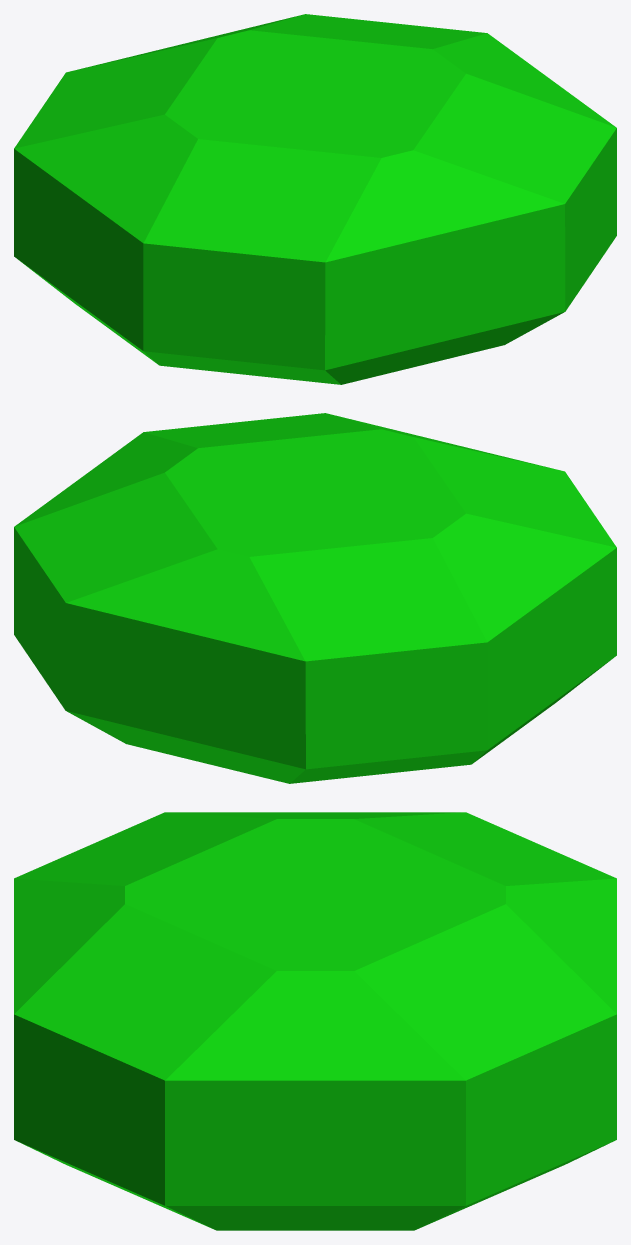
The model's file is Jem_13.fbx.
The picture shows the model from 3 angles, top to bottom: view 1: azimuth 30°, elevation 25°; view 2: azimuth 150°, elevation 25°; view 3: azimuth 270°, elevation 25°; orthographic projection. The views are drawn at different scales.
Visible parts, largest first — view 1: Jem_13; view 2: Jem_13; view 3: Jem_13.
Boxes of the visible parts, <box> form: Jem_13: <box>14,14,616,384</box>; Jem_13: <box>14,413,616,783</box>; Jem_13: <box>14,812,616,1230</box>.
Bounding box in the file's own units: 47.02 × 18.23 × 44.64.
